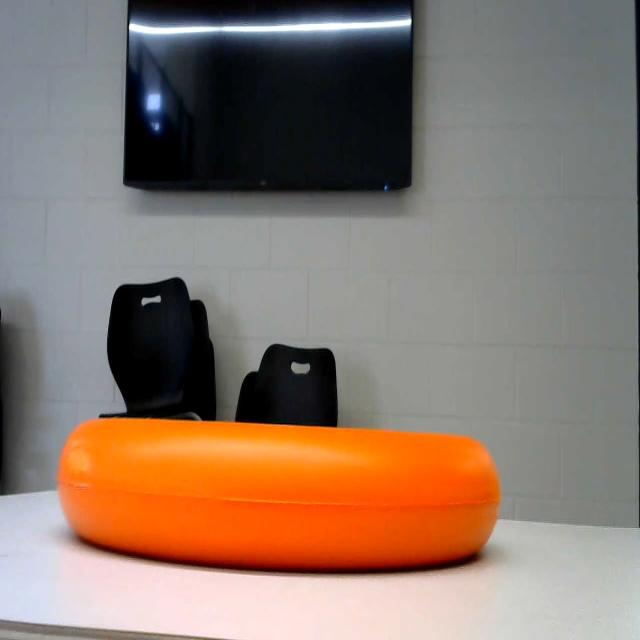note: (31, 407, 503, 571)
